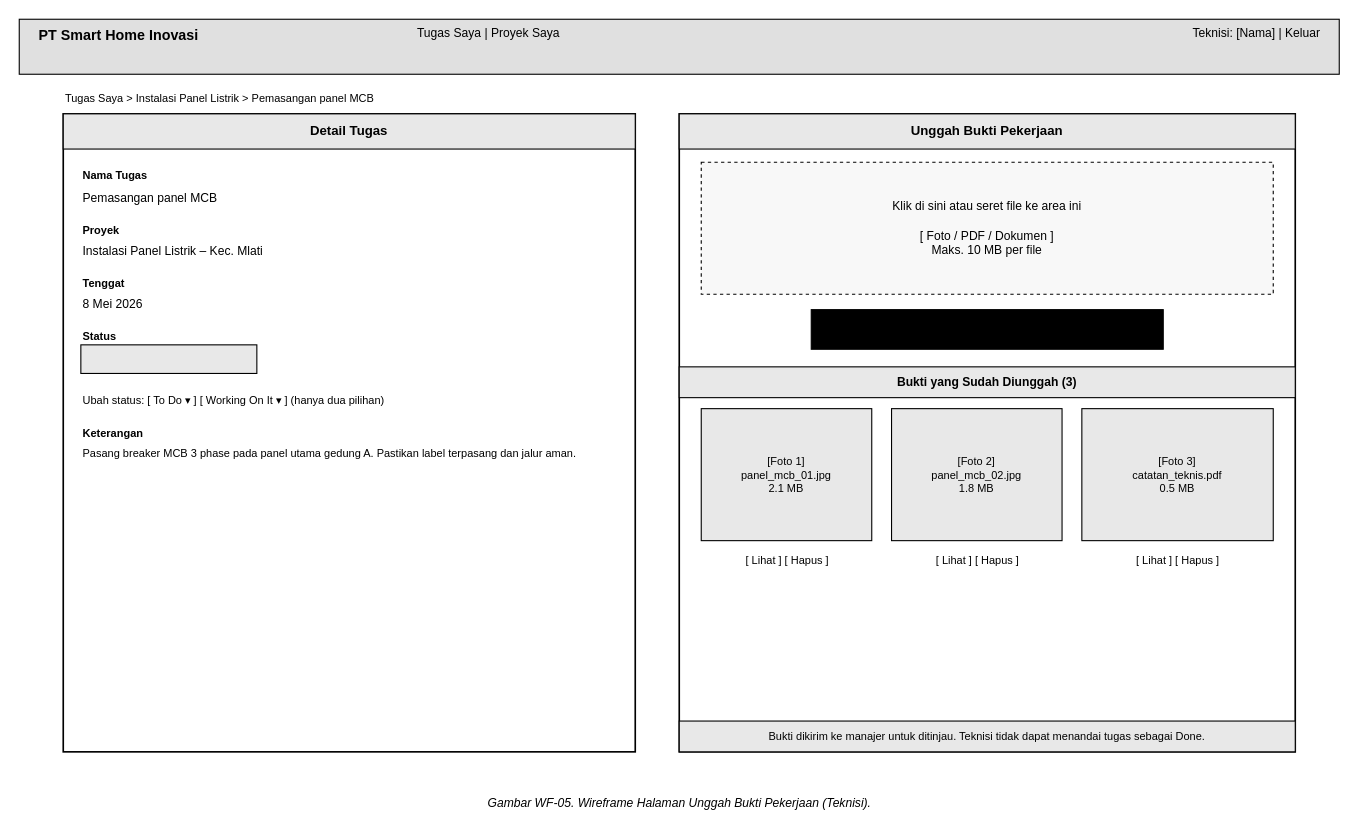
This 1359x831 diagram has some shape labels left out. Here are the shapes that lost their labels. From the top down, the centre of each, then its label:
point (986, 329): Pilih File
point (168, 358): [Working On It]
